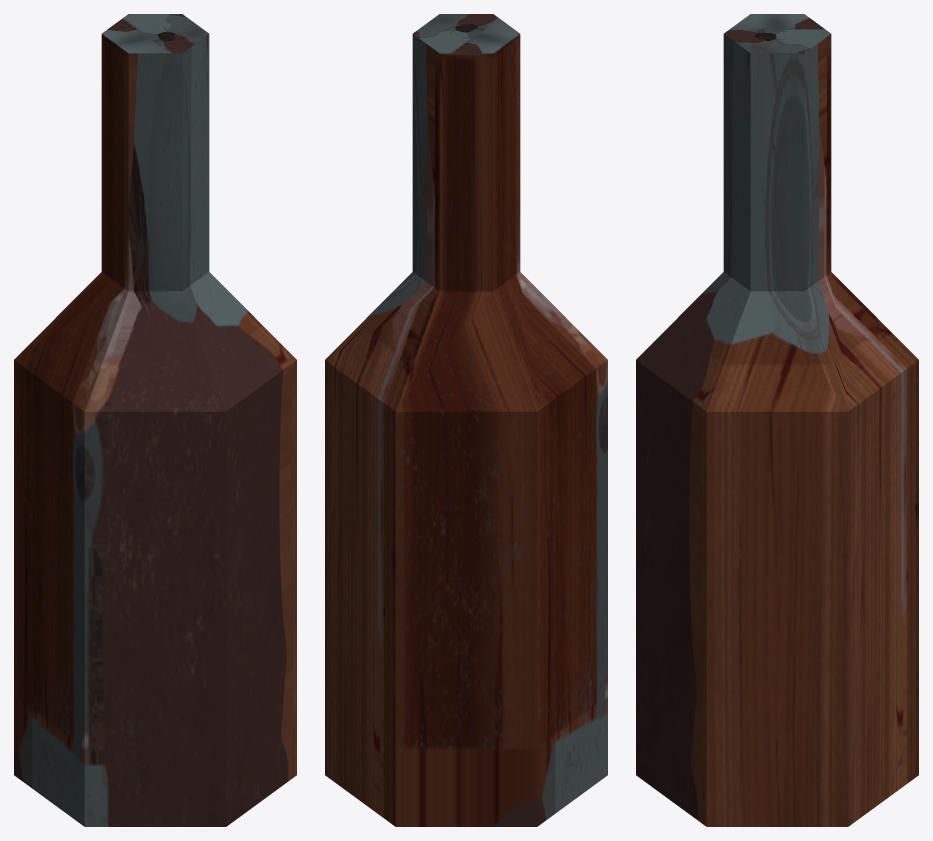
Rendered from sb_obj_indoor001_OldKitchen_bin_col.fbx.
The picture shows the model from 3 angles, left to right: view 1: azimuth 30°, elevation 25°; view 2: azimuth 150°, elevation 25°; view 3: azimuth 270°, elevation 25°; orthographic projection.
Visible parts, largest first — view 1: sb_obj_indoor001_OldKitchen_bin_col; view 2: sb_obj_indoor001_OldKitchen_bin_col; view 3: sb_obj_indoor001_OldKitchen_bin_col.
Part boxes in pixels (left/top/right/bottom): sb_obj_indoor001_OldKitchen_bin_col: left=14, top=14, right=296, bottom=826; sb_obj_indoor001_OldKitchen_bin_col: left=325, top=14, right=607, bottom=826; sb_obj_indoor001_OldKitchen_bin_col: left=636, top=14, right=918, bottom=826.
Size of the model in its own units: 0.1179 by 0.3936 by 0.1361.
